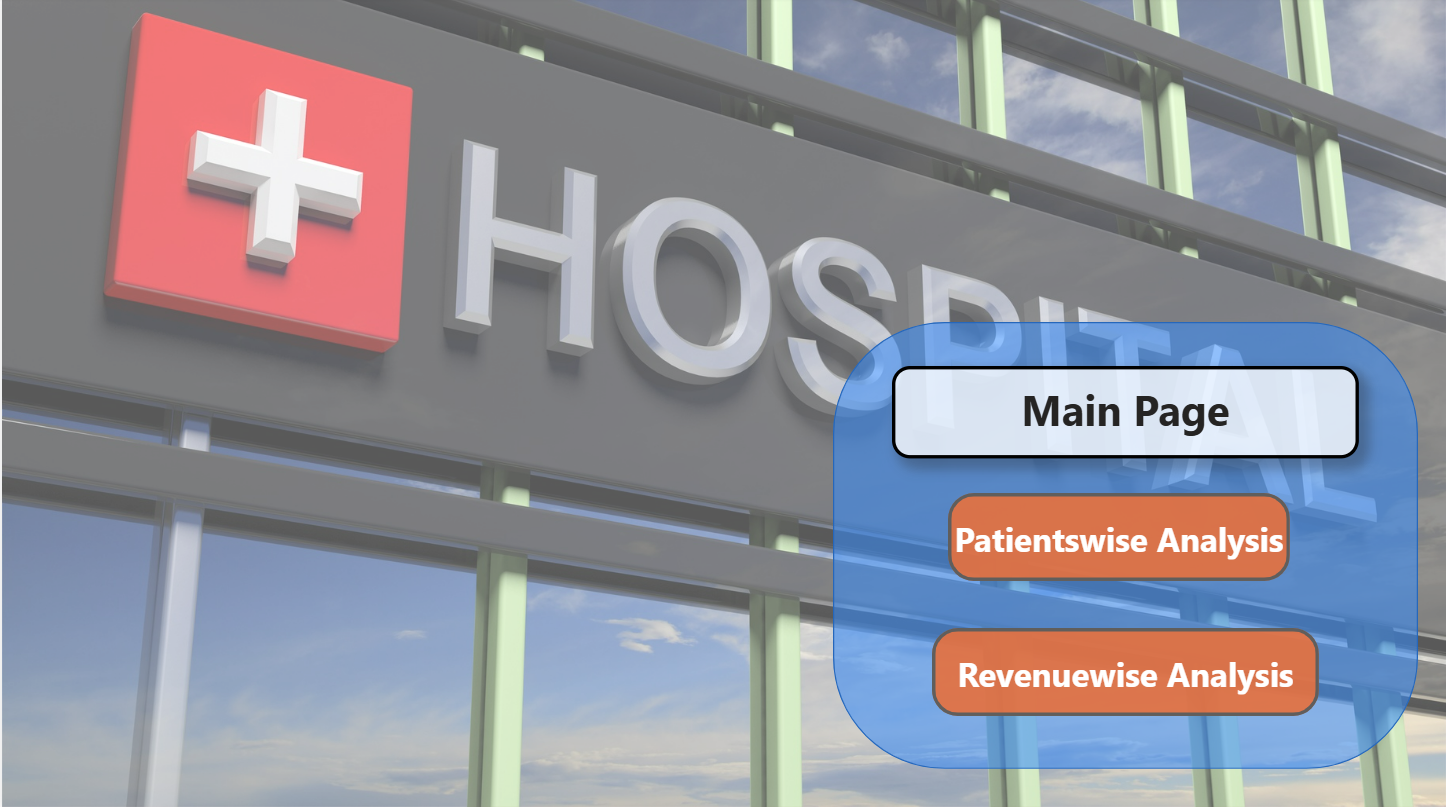

What the dashboard file says about the page in this screenshot:
{"tool":"powerbi","page":{"name":"Main Page","canvas":[1280,720],"ordinal":0},"visuals":[{"type":"shape","box":[736.8,288.2,518.7,396.4],"z":0},{"type":"textbox","box":[789.2,327.2,414.1,81.6],"z":1000},{"type":"actionButton","box":[838.8,439.8,303.3,78],"z":2000},{"type":"actionButton","box":[824.6,559.5,343.2,78],"z":2001}]}

Visuals, with their boxes in screenshot pixels (x1, y1, x2, y2), scaled from the page's 1280x720 canvas onto the 1446x807 screenshot:
shape: select_region(832, 323, 1418, 767)
textbox: select_region(892, 367, 1359, 458)
actionButton: select_region(948, 493, 1290, 580)
actionButton: select_region(932, 627, 1319, 715)
